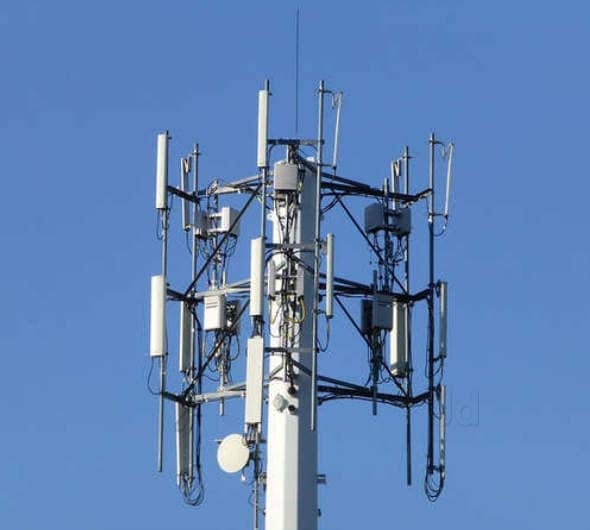ba: (199, 419, 257, 480)
sa: (135, 256, 182, 374), (238, 327, 278, 434), (236, 224, 276, 329), (378, 290, 420, 377), (244, 74, 279, 171), (153, 123, 182, 226)
